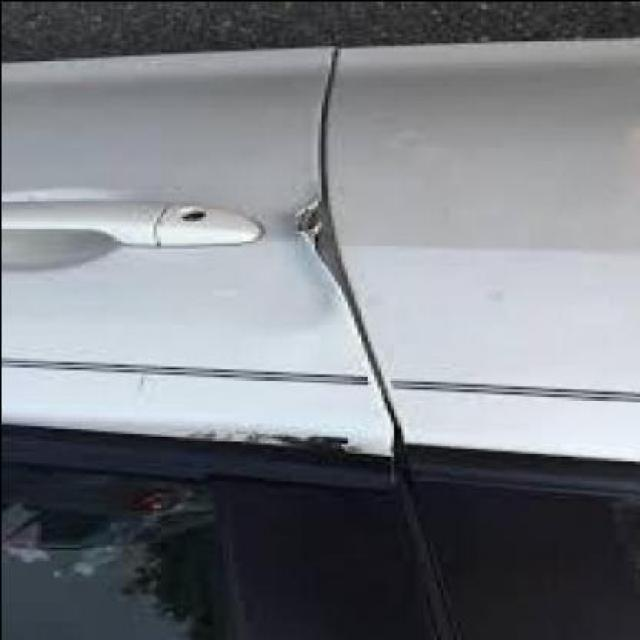damage: (289, 167, 386, 327)
